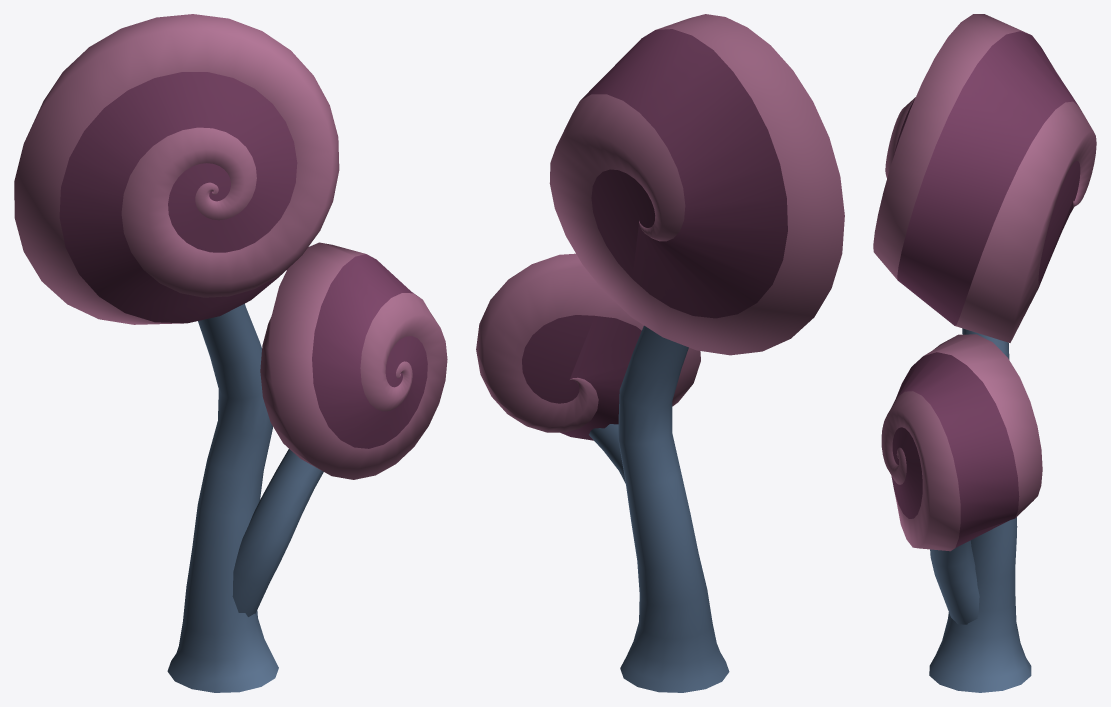
File: Tree_Swirl_1_Remake.glb
3 renders of one model, left to right at view 1: azimuth 30°, elevation 25°; view 2: azimuth 150°, elevation 25°; view 3: azimuth 270°, elevation 25°, orthographic. The views are drawn at different scales.
Visible parts, largest first — view 1: Candy_Swirl_V2_Remake; view 2: Candy_Swirl_V2_Remake; view 3: Candy_Swirl_V2_Remake.
Part boxes in pixels (box(x1,y1,x2,y2)): Candy_Swirl_V2_Remake: box(14, 14, 447, 692); Candy_Swirl_V2_Remake: box(476, 14, 844, 692); Candy_Swirl_V2_Remake: box(873, 14, 1096, 692).
Bounding box in the file's own units: 3.23 × 5.23 × 1.71.
